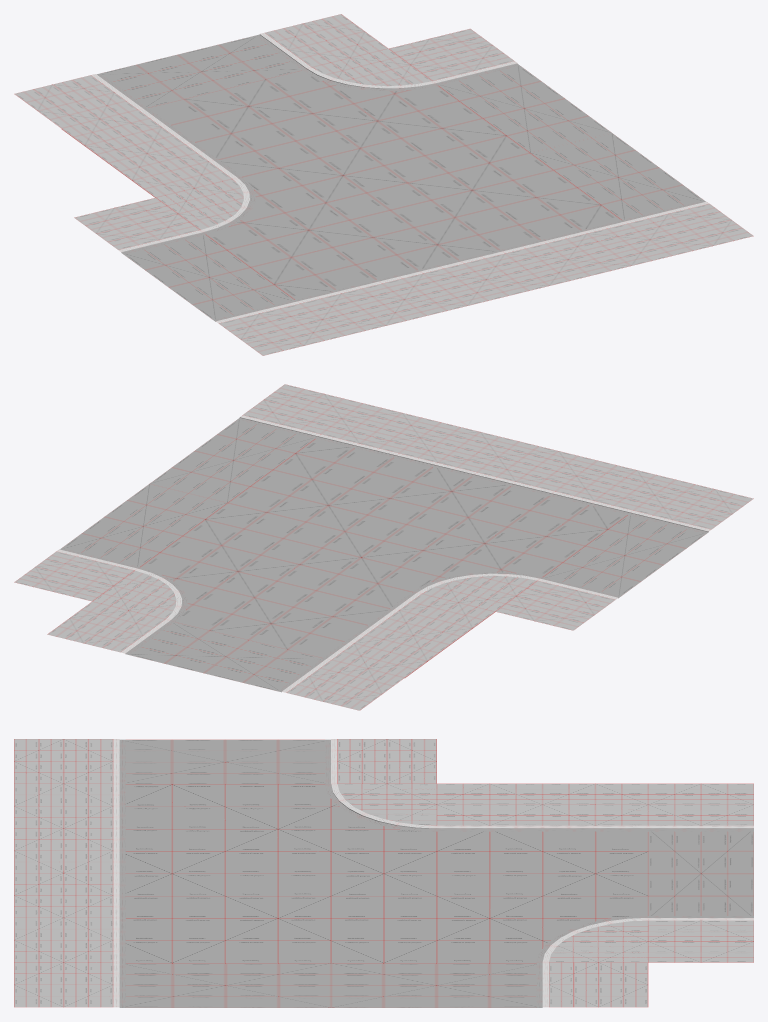
The model's file is T_cross_e.FBX.
3 views of the same model, one above another, from view 1: azimuth 30°, elevation 25°; view 2: azimuth 150°, elevation 25°; view 3: azimuth 270°, elevation 25° (orthographic). The views are drawn at different scales.
Visible parts, largest first — view 1: T_cross_e; view 2: T_cross_e; view 3: T_cross_e.
Boxes of the visible parts, box(x1,y1,x2,y2) form: T_cross_e: box(14, 14, 753, 355); T_cross_e: box(14, 384, 753, 710); T_cross_e: box(14, 739, 753, 1007).
Size of the model in its own units: 120 by 140 by 0.1384.
